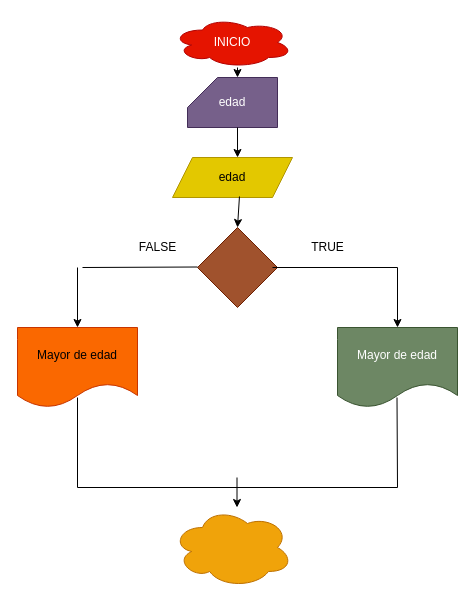
The diagram is 475 pixels wide and 605 high, and some of its shapes have lost their labels. The centre of each missing label's shape, as x and y in pixels:
"edad >= 18" belongs at point (237, 267).
"FIN" belongs at point (232, 547).
